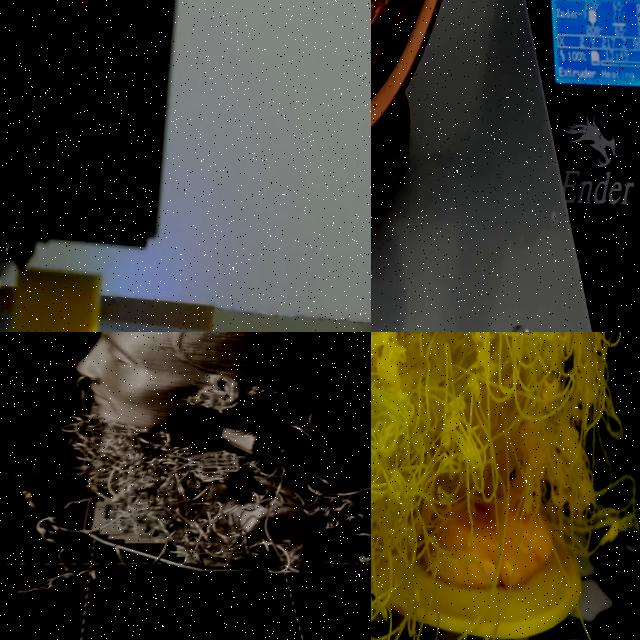spaghetti: (371, 332, 640, 640), (22, 408, 361, 598)
